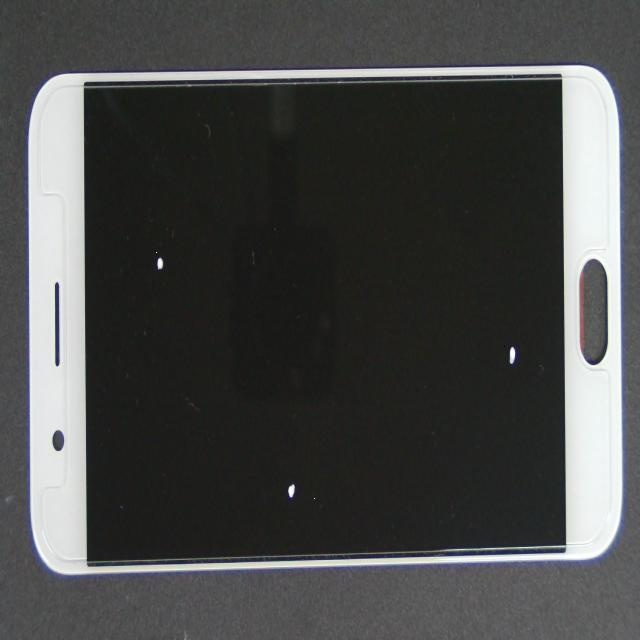stain: (216, 144, 640, 556), (161, 231, 435, 640), (69, 129, 207, 389)
